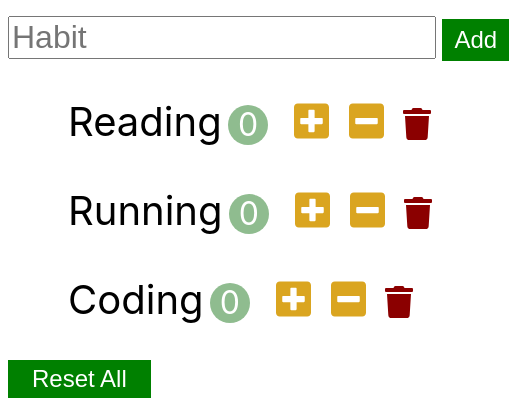
Habit Tracker › decrease count
Click the button titled "increment" in the row of "Reading". click: [312, 123]
box: [288,99,335,146]
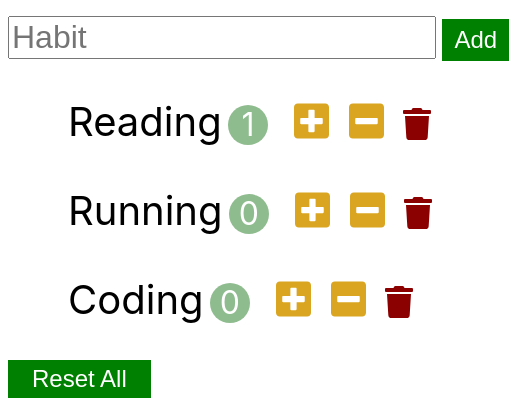
Click the button titled "decrement" in the row of "Reading". click: [367, 123]
box: [343,99,390,146]
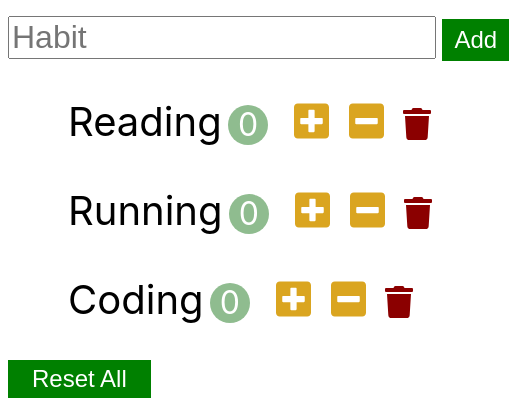
Expected: the text with test id "habit-count" next to "Reading" reads "0", [228,105,268,145]
